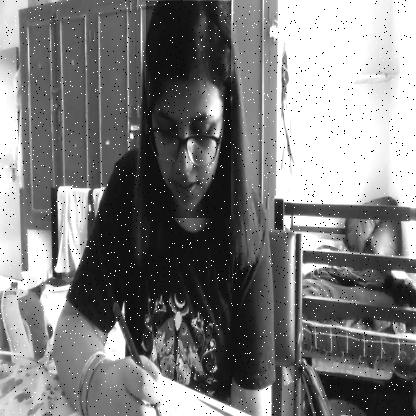Normal: (146, 1, 231, 218)
